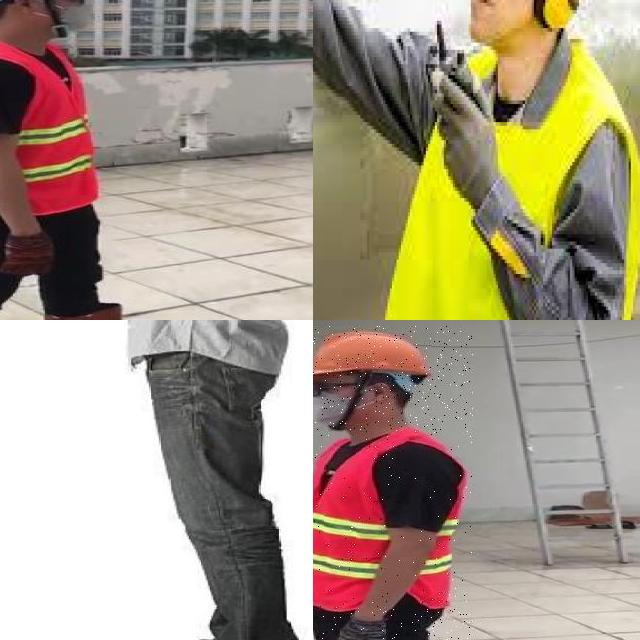Ear-protection: (527, 0, 585, 31)
No_Ear-Protection: (369, 380, 391, 408)
face_mask: (35, 0, 97, 36)
hand_glove: (432, 65, 496, 200), (0, 235, 56, 278)
head_helmet: (313, 330, 432, 380)
person: (313, 0, 640, 320), (85, 320, 304, 640), (0, 0, 194, 320), (313, 326, 473, 640)
vest: (410, 27, 640, 320), (313, 435, 474, 609), (0, 42, 100, 213)
